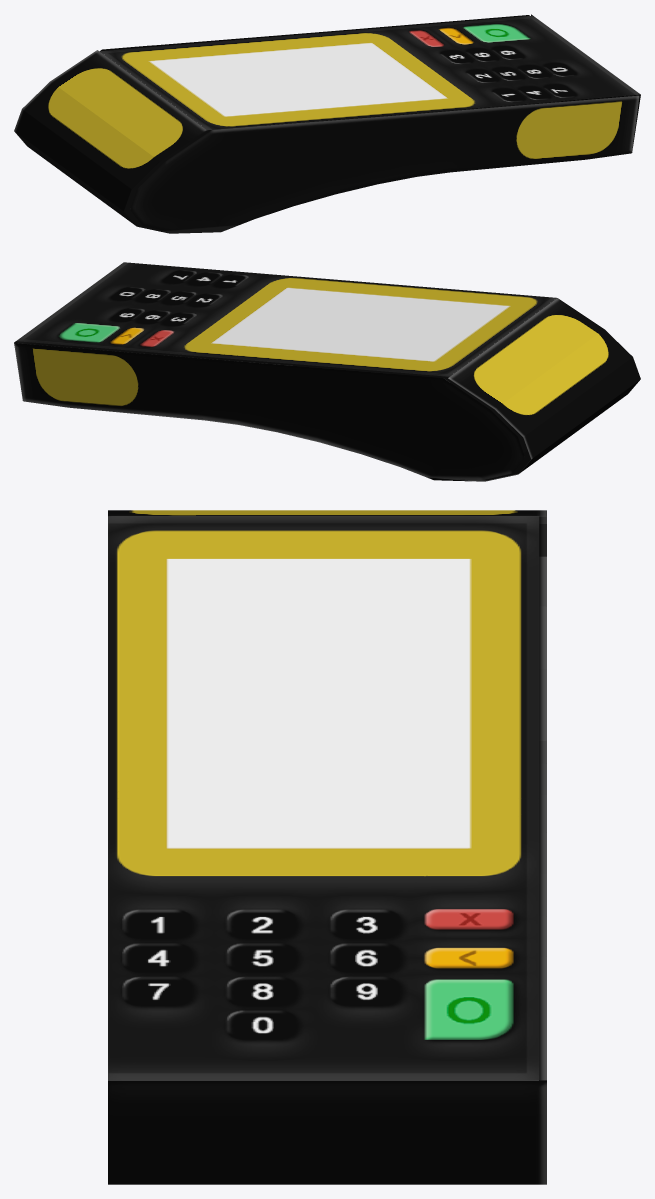
Rendered from maquininha.fbx.
3 views of the same model, one above another, from view 1: azimuth 30°, elevation 25°; view 2: azimuth 150°, elevation 25°; view 3: azimuth 270°, elevation 25° (orthographic). The views are drawn at different scales.
Visible parts, largest first — view 1: maquininha; view 2: maquininha; view 3: maquininha.
Boxes of the visible parts, box(x1,y1,x2,y2) form: maquininha: box(14, 14, 640, 233); maquininha: box(14, 262, 640, 481); maquininha: box(108, 510, 546, 1184).
Bounding box in the file's own units: 22.2 × 5.2 × 8.16.
